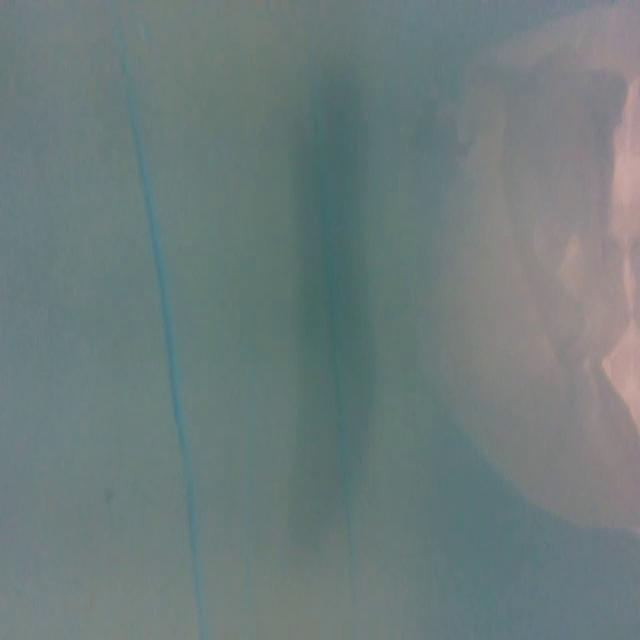plastic bags: (423, 14, 640, 538)
